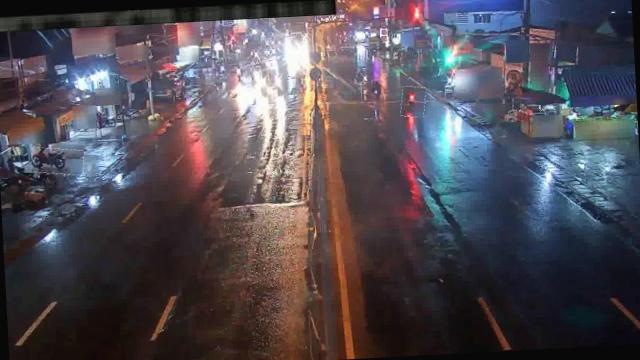Bike: (31, 146, 84, 176), (399, 85, 426, 117), (370, 79, 385, 105), (360, 82, 372, 106)
Car: (259, 68, 282, 93)
